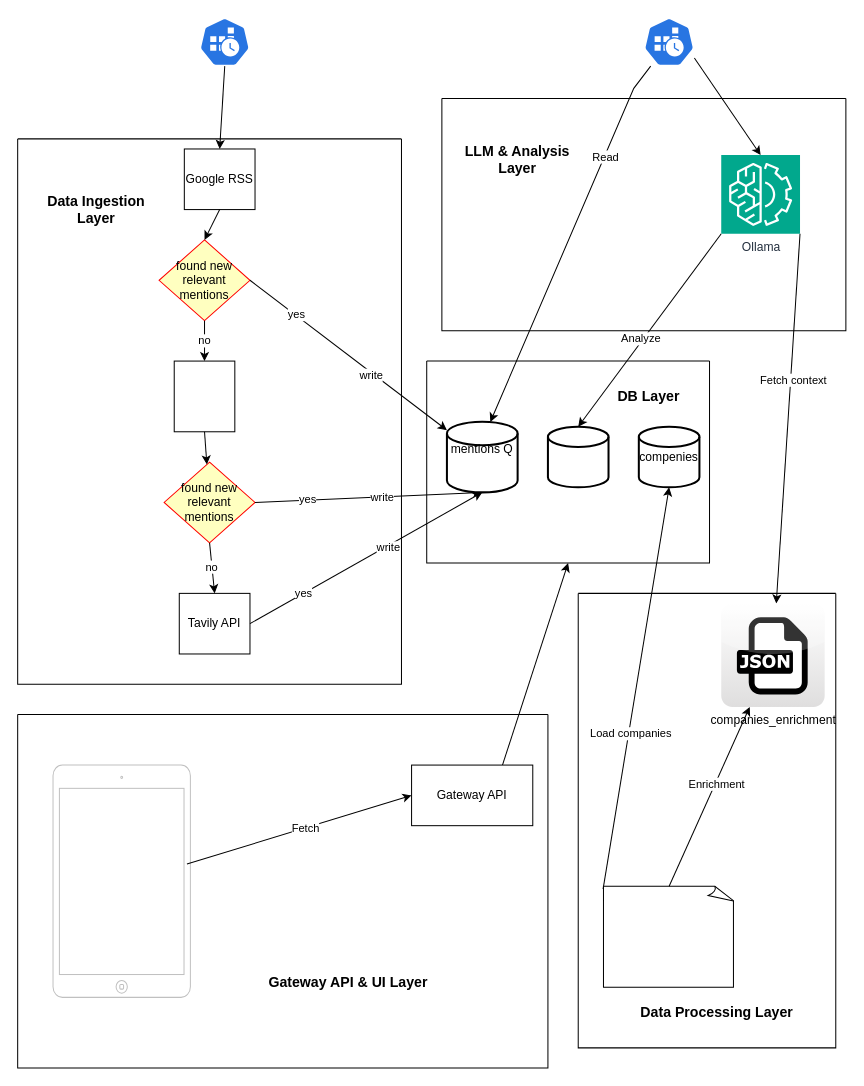
The diagram is 864 pixels wide and 1086 high, and some of its shapes have lost their labels. Each missing label, with the centre of its shape:
10 min: [224,41]
5 min: [668,41]
mentions: [577,456]
newsAPI: [204,396]
ourcrowd_companies: [668,936]
